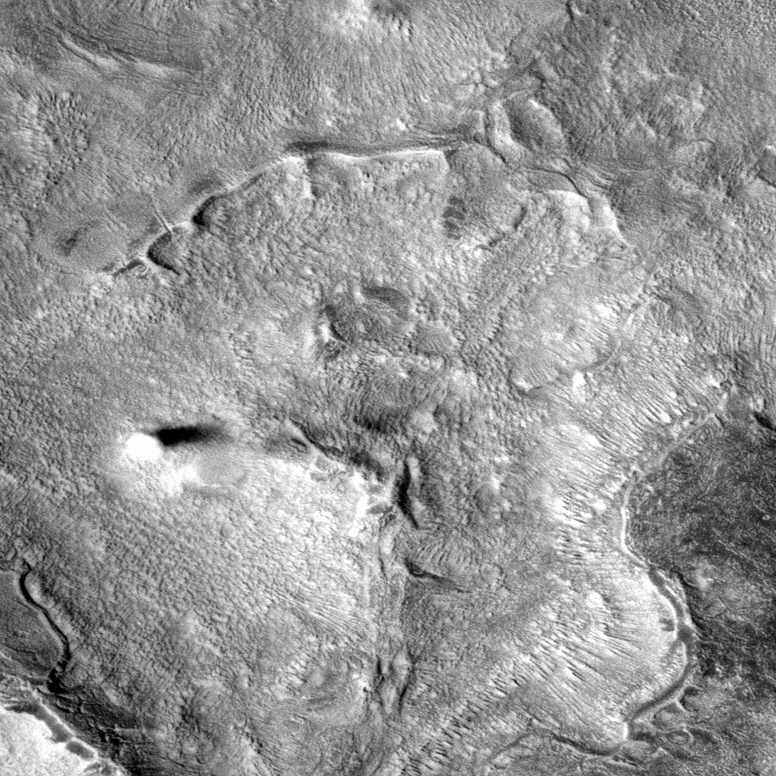dust_devil: (124, 421, 222, 463)
